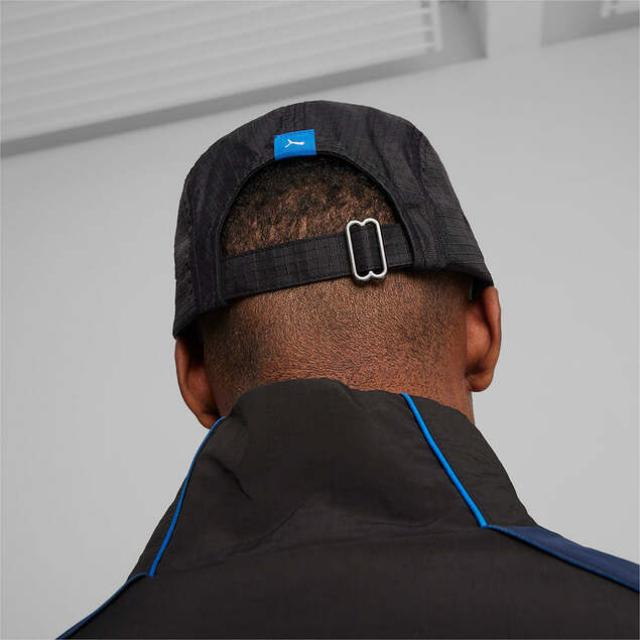no_helmet: (169, 98, 494, 346)
